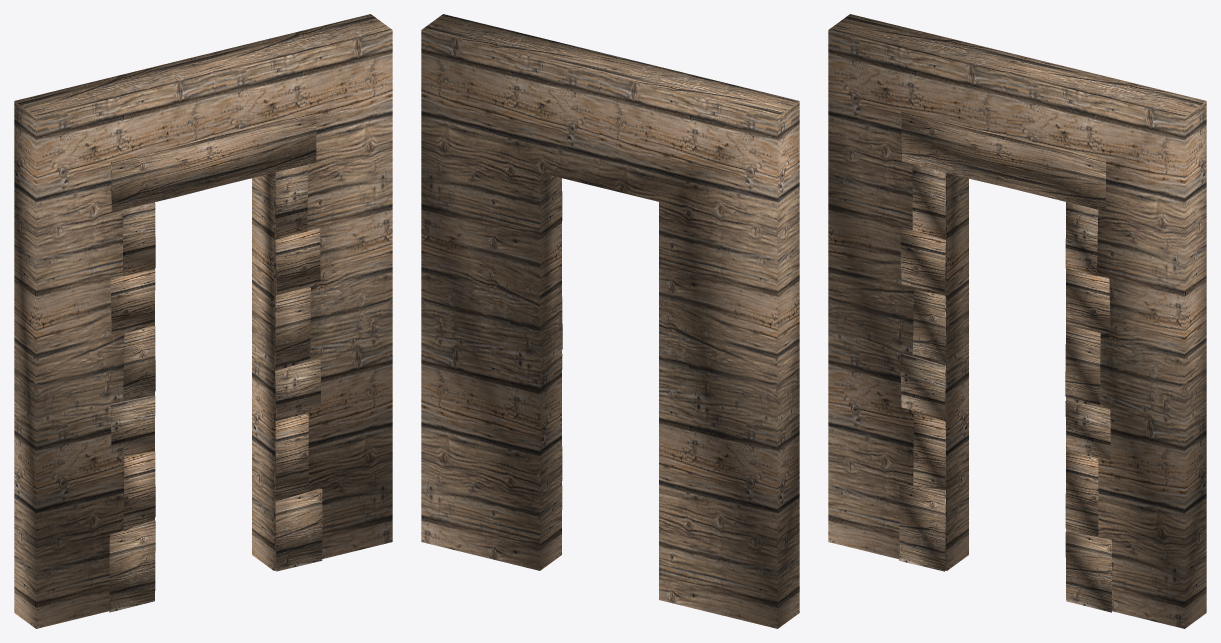
Rendered from wood door2.glb.
3 views of the same model, side by side, from view 1: azimuth 30°, elevation 25°; view 2: azimuth 150°, elevation 25°; view 3: azimuth 330°, elevation 25° (orthographic).
Visible parts, largest first — view 1: Rectangle Door Wall.002; view 2: Rectangle Door Wall.002; view 3: Rectangle Door Wall.002.
Part boxes in pixels (<box>): Rectangle Door Wall.002: <box>14,14,392,628</box>; Rectangle Door Wall.002: <box>421,14,799,628</box>; Rectangle Door Wall.002: <box>828,14,1206,628</box>.
Size of the model in its own units: 2 by 2.75 by 0.225.
Materials: 2 (2 with a texture image).
